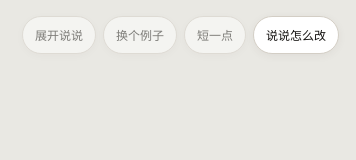
busy state disables the intent submit and shows the waiting label
Click the button with test id "intent-toggle" at [296, 35], box [253,16,339,54]
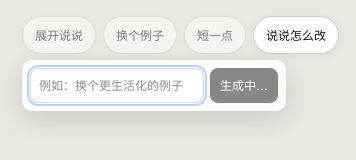
Check: the button with test id "intent-submit" is disabled, box [210,68,278,103]
Check: the button with test id "intent-submit" reads "生成中…", box [210,68,278,103]
